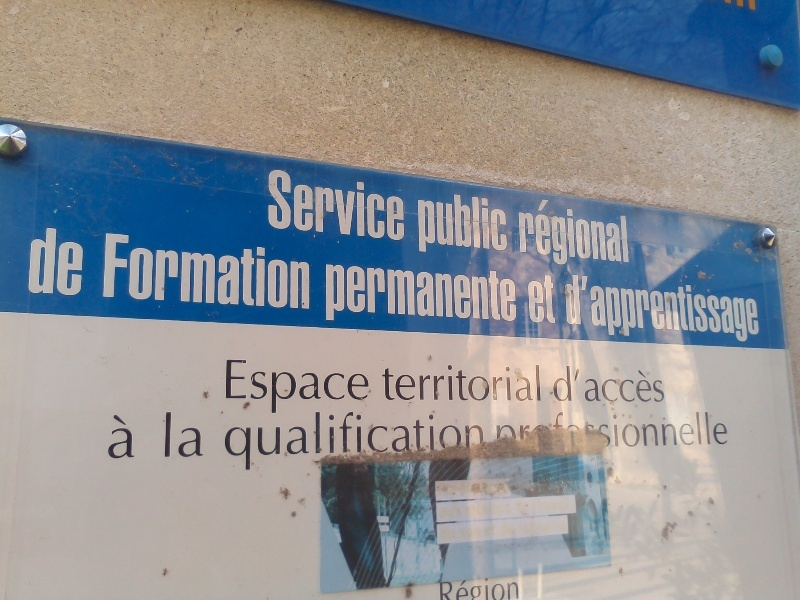text: (113, 227, 128, 311), (129, 227, 144, 311), (145, 227, 160, 311), (161, 227, 176, 311), (177, 227, 192, 311), (193, 227, 208, 311), (209, 227, 224, 311), (225, 227, 240, 311), (241, 227, 256, 311), (257, 227, 272, 311), (273, 227, 288, 311), (289, 227, 304, 311), (273, 165, 288, 242), (289, 165, 304, 242), (305, 165, 320, 242), (321, 165, 336, 242), (337, 165, 352, 242), (353, 165, 368, 242), (369, 165, 384, 242), (385, 165, 400, 242), (529, 196, 544, 272), (545, 196, 560, 272), (561, 196, 576, 272), (577, 196, 592, 272), (593, 196, 608, 272), (609, 196, 624, 272), (33, 223, 48, 297), (49, 223, 64, 297), (65, 223, 80, 297), (417, 190, 432, 264), (433, 190, 448, 264), (449, 190, 464, 264), (465, 190, 480, 264), (481, 190, 496, 264), (321, 258, 336, 332), (337, 258, 352, 332), (353, 258, 368, 332), (369, 258, 384, 332), (385, 258, 400, 332), (401, 258, 416, 332), (417, 258, 432, 332), (433, 258, 448, 332), (449, 258, 464, 332), (465, 258, 480, 332), (481, 258, 496, 332), (497, 258, 512, 332), (561, 273, 576, 343), (577, 273, 592, 343), (593, 273, 608, 343), (609, 273, 624, 343), (625, 273, 640, 343), (641, 273, 656, 343), (657, 273, 672, 343), (673, 273, 688, 343), (689, 273, 704, 343), (705, 273, 720, 343), (721, 273, 736, 343), (737, 273, 752, 343), (225, 410, 240, 477), (241, 410, 256, 477), (257, 410, 272, 477), (273, 410, 288, 477), (289, 410, 304, 477), (305, 410, 320, 477), (321, 410, 336, 477), (337, 410, 352, 477), (353, 410, 368, 477), (369, 410, 384, 477), (385, 410, 400, 477), (401, 410, 416, 477), (417, 410, 432, 477), (433, 410, 448, 477), (449, 410, 464, 477), (465, 410, 480, 477), (497, 190, 510, 264), (529, 268, 544, 327), (241, 357, 256, 415), (257, 357, 272, 415), (273, 357, 288, 415), (289, 357, 304, 415), (305, 357, 320, 415), (321, 357, 336, 415), (337, 357, 352, 415), (353, 357, 368, 415), (161, 408, 176, 466), (177, 408, 192, 466), (102, 227, 112, 311), (113, 411, 128, 467), (517, 196, 528, 272), (226, 357, 240, 415), (193, 408, 207, 466), (129, 411, 143, 467), (545, 268, 558, 327), (385, 361, 400, 411), (401, 361, 416, 411), (417, 361, 432, 411), (433, 361, 448, 411), (449, 361, 464, 411), (465, 361, 480, 411), (481, 361, 496, 411), (497, 361, 512, 411), (513, 361, 528, 411), (529, 361, 544, 411), (497, 409, 512, 458), (513, 409, 528, 458), (529, 409, 544, 458), (545, 409, 560, 458), (561, 409, 576, 458), (577, 409, 592, 458), (593, 409, 608, 458), (81, 223, 90, 297), (609, 407, 624, 449), (625, 407, 640, 449), (641, 407, 656, 449), (657, 407, 672, 449), (673, 407, 688, 449), (689, 407, 704, 449), (705, 407, 720, 449), (561, 365, 576, 405), (577, 365, 592, 405), (593, 365, 608, 405), (609, 365, 624, 405), (625, 365, 640, 405), (641, 365, 656, 405), (305, 227, 312, 311), (265, 165, 272, 242), (103, 411, 112, 467), (753, 273, 760, 343), (657, 365, 669, 405), (401, 165, 407, 242), (625, 196, 631, 272), (218, 410, 224, 477), (481, 410, 487, 477), (550, 365, 560, 405), (721, 407, 730, 449), (522, 268, 528, 327), (449, 577, 464, 600), (465, 577, 480, 600), (481, 577, 496, 600), (497, 577, 512, 600), (513, 258, 517, 332), (437, 577, 448, 600), (369, 357, 373, 415), (513, 577, 522, 600), (545, 361, 549, 411), (381, 361, 384, 411), (30, 223, 32, 297), (493, 409, 496, 458), (159, 408, 160, 466), (609, 409, 610, 458)
